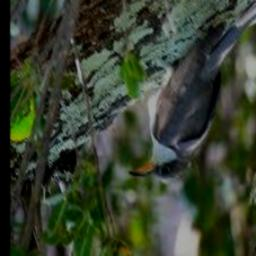Cuckoo: (130, 10, 256, 183)
